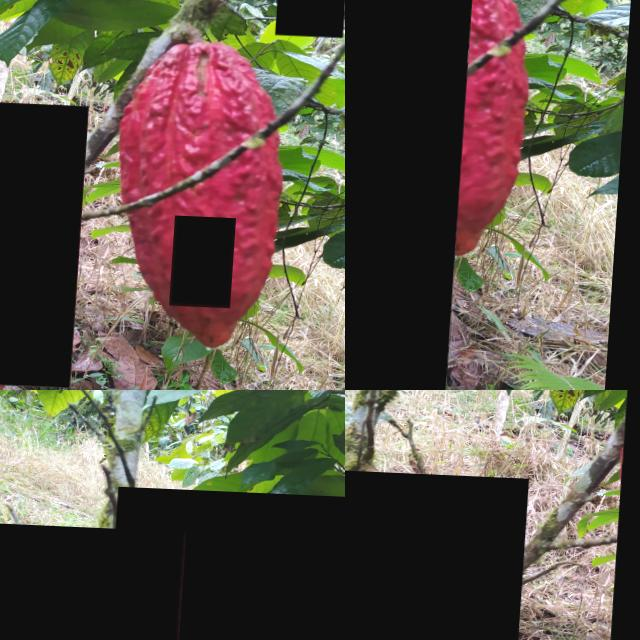Monilia: (107, 485, 345, 640), (0, 523, 188, 640)
Sana: (345, 0, 478, 389), (345, 469, 532, 640), (0, 96, 91, 385), (175, 211, 240, 303), (277, 0, 345, 31)
